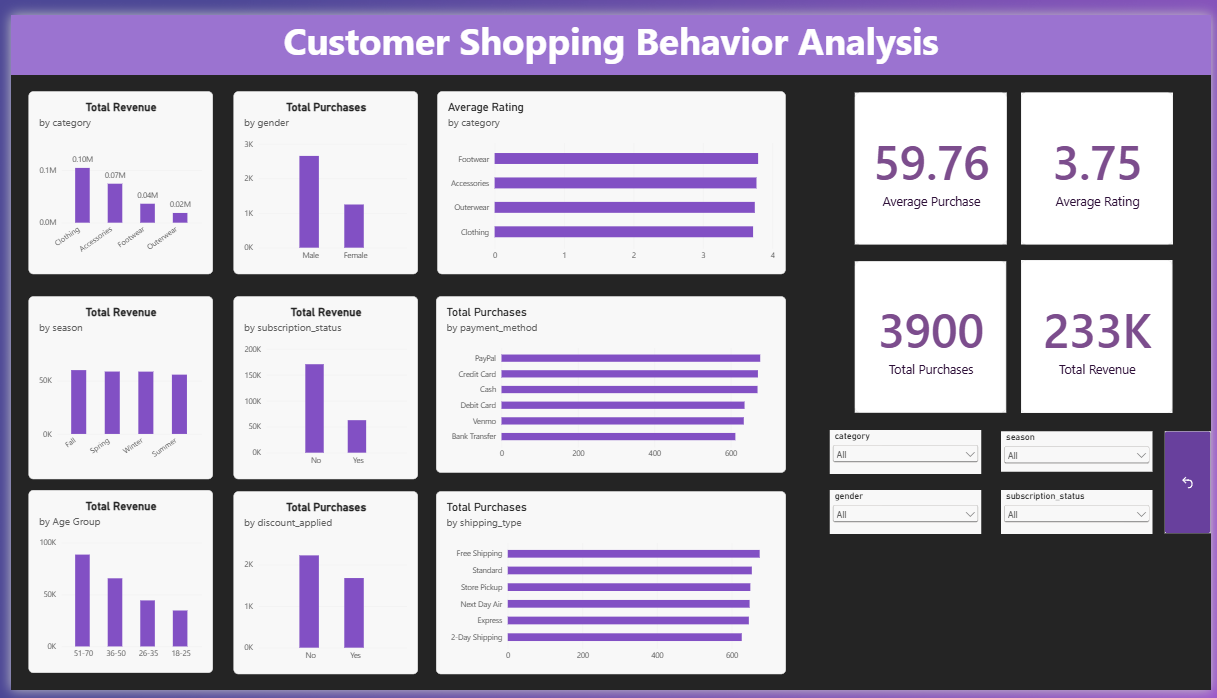

Layout of this report page (visuals, bound fields, positions):
{"tool":"powerbi","page":{"name":"customer shopping dashboard","canvas":[1920,1080],"ordinal":1},"visuals":[{"type":"cardVisual","fields":{"Data":["customer_behavior customer_shopping_behavior.Total Purchases"]},"box":[650,122.5,275,167.5],"z":0},{"type":"shape","box":[0,412.5,1270,312.5],"z":0,"group":"g1"},{"type":"cardVisual","fields":{"Data":["customer_behavior customer_shopping_behavior.Total Revenue"]},"box":[960,125,275,162.5],"z":1000},{"type":"shape","box":[1335,125,567.5,935],"z":1000,"group":"g3"},{"type":"cardVisual","fields":{"Data":["customer_behavior customer_shopping_behavior.Average Purchase"]},"box":[27.5,122.5,275,167.5],"z":2000},{"type":"shape","box":[0,747.5,1270,312.5],"z":2000,"group":"g2"},{"type":"cardVisual","fields":{"Data":["customer_behavior customer_shopping_behavior.Average Rating"]},"box":[337.5,125,275,167.5],"z":3000},{"type":"textbox","box":[0,0,1920,96],"z":4000},{"type":"slicer","fields":{"Values":["customer_behavior customer_shopping_behavior.category"]},"box":[27.5,312.5,275,70],"z":5000},{"type":"slicer","fields":{"Values":["customer_behavior customer_shopping_behavior.season"]},"box":[650,317.5,275,65],"z":6000},{"type":"slicer","fields":{"Values":["customer_behavior customer_shopping_behavior.gender"]},"box":[337.5,312.5,275,70],"z":7000},{"type":"clusteredColumnChart","fields":{"Category":["customer_behavior customer_shopping_behavior.category"],"Y":["customer_behavior customer_shopping_behavior.Total Revenue"]},"box":[27.5,422.5,360,292.5],"z":7000,"group":"g1"},{"type":"slicer","fields":{"Values":["customer_behavior customer_shopping_behavior.subscription_status"]},"box":[960,312.5,275,70],"z":8000},{"type":"clusteredColumnChart","fields":{"Category":["customer_behavior customer_shopping_behavior.season"],"Y":["customer_behavior customer_shopping_behavior.Total Revenue"]},"box":[410,422.5,355,292.5],"z":8000,"group":"g1"},{"type":"actionButton","box":[1235,312.5,72.5,70],"z":9000},{"type":"clusteredColumnChart","fields":{"Category":["customer_behavior customer_shopping_behavior.gender"],"Y":["customer_behavior customer_shopping_behavior.Total Purchases"]},"box":[27.5,757.5,360,292.5],"z":9000,"group":"g2"},{"type":"clusteredBarChart","fields":{"Category":["customer_behavior customer_shopping_behavior.payment_method"],"Y":["customer_behavior customer_shopping_behavior.Total Purchases"]},"box":[1352,144.6,533.5,269.2],"z":10000,"group":"g3"},{"type":"group","id":"g1","title":"Group 1","box":[0,412.5,1270,312.5],"z":10000},{"type":"clusteredColumnChart","fields":{"Category":["customer_behavior customer_shopping_behavior.Age Group"],"Y":["customer_behavior customer_shopping_behavior.Total Revenue"]},"box":[807.5,422.5,355,292.5],"z":11000,"group":"g1"},{"type":"group","id":"g2","title":"Group 2","box":[0,747.5,1270,312.5],"z":11000},{"type":"group","id":"g3","title":"Group 3","box":[1335,125,567.5,935],"z":12000},{"type":"clusteredColumnChart","fields":{"Category":["customer_behavior customer_shopping_behavior.subscription_status"],"Y":["customer_behavior customer_shopping_behavior.Total Revenue"]},"box":[410,757.5,355,292.5],"z":12000,"group":"g2"},{"type":"clusteredBarChart","fields":{"Category":["customer_behavior customer_shopping_behavior.shipping_type"],"Y":["customer_behavior customer_shopping_behavior.Total Purchases"]},"box":[1352,433.4,533.5,301.1],"z":13000,"group":"g3"},{"type":"clusteredBarChart","fields":{"Category":["customer_behavior customer_shopping_behavior.category"],"Y":["customer_behavior customer_shopping_behavior.Average Rating"]},"box":[1352,763.8,533.5,276.6],"z":14000,"group":"g3"},{"type":"clusteredColumnChart","fields":{"Category":["customer_behavior customer_shopping_behavior.discount_applied"],"Y":["customer_behavior customer_shopping_behavior.Total Purchases"]},"box":[807.5,757.5,355,292.5],"z":15000,"group":"g2"}]}

Visuals, with their boxes in screenshot pixels (x1, y1, x2, y2), scaled from the page's 1920x1080 canvas onto the 1217x698 screenshot:
cardVisual - customer_behavior customer_shopping_behavior.Total Purchases: pyautogui.locateOnScreen(412, 79, 586, 187)
shape: pyautogui.locateOnScreen(0, 267, 805, 469)
cardVisual - customer_behavior customer_shopping_behavior.Total Revenue: pyautogui.locateOnScreen(608, 81, 783, 186)
shape: pyautogui.locateOnScreen(846, 81, 1206, 685)
cardVisual - customer_behavior customer_shopping_behavior.Average Purchase: pyautogui.locateOnScreen(17, 79, 192, 187)
shape: pyautogui.locateOnScreen(0, 483, 805, 685)
cardVisual - customer_behavior customer_shopping_behavior.Average Rating: pyautogui.locateOnScreen(214, 81, 388, 189)
textbox: pyautogui.locateOnScreen(0, 0, 1216, 62)
slicer - customer_behavior customer_shopping_behavior.category: pyautogui.locateOnScreen(17, 202, 192, 247)
slicer - customer_behavior customer_shopping_behavior.season: pyautogui.locateOnScreen(412, 205, 586, 247)
slicer - customer_behavior customer_shopping_behavior.gender: pyautogui.locateOnScreen(214, 202, 388, 247)
clusteredColumnChart - customer_behavior customer_shopping_behavior.category x customer_behavior customer_shopping_behavior.Total Revenue: pyautogui.locateOnScreen(17, 273, 246, 462)
slicer - customer_behavior customer_shopping_behavior.subscription_status: pyautogui.locateOnScreen(608, 202, 783, 247)
clusteredColumnChart - customer_behavior customer_shopping_behavior.season x customer_behavior customer_shopping_behavior.Total Revenue: pyautogui.locateOnScreen(260, 273, 485, 462)
actionButton: pyautogui.locateOnScreen(783, 202, 829, 247)
clusteredColumnChart - customer_behavior customer_shopping_behavior.gender x customer_behavior customer_shopping_behavior.Total Purchases: pyautogui.locateOnScreen(17, 490, 246, 679)
clusteredBarChart - customer_behavior customer_shopping_behavior.payment_method x customer_behavior customer_shopping_behavior.Total Purchases: pyautogui.locateOnScreen(857, 93, 1195, 267)
"Group 1" group: pyautogui.locateOnScreen(0, 267, 805, 469)
clusteredColumnChart - customer_behavior customer_shopping_behavior.Age Group x customer_behavior customer_shopping_behavior.Total Revenue: pyautogui.locateOnScreen(512, 273, 737, 462)
"Group 2" group: pyautogui.locateOnScreen(0, 483, 805, 685)
"Group 3" group: pyautogui.locateOnScreen(846, 81, 1206, 685)
clusteredColumnChart - customer_behavior customer_shopping_behavior.subscription_status x customer_behavior customer_shopping_behavior.Total Revenue: pyautogui.locateOnScreen(260, 490, 485, 679)
clusteredBarChart - customer_behavior customer_shopping_behavior.shipping_type x customer_behavior customer_shopping_behavior.Total Purchases: pyautogui.locateOnScreen(857, 280, 1195, 475)
clusteredBarChart - customer_behavior customer_shopping_behavior.category x customer_behavior customer_shopping_behavior.Average Rating: pyautogui.locateOnScreen(857, 494, 1195, 672)
clusteredColumnChart - customer_behavior customer_shopping_behavior.discount_applied x customer_behavior customer_shopping_behavior.Total Purchases: pyautogui.locateOnScreen(512, 490, 737, 679)
